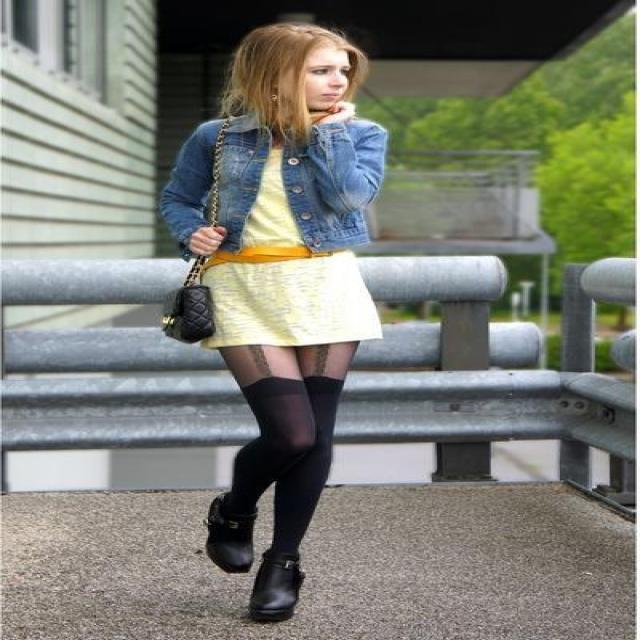bag: (163, 294, 216, 342)
jacket: (149, 103, 387, 256)
shirt: (250, 149, 300, 242)
shoe: (206, 540, 304, 624)
skirt: (194, 252, 387, 344)
